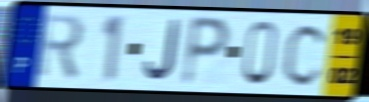0: (242, 19, 280, 88)
1: (100, 13, 125, 85)
C: (281, 21, 330, 89)
J: (143, 18, 182, 83)
P: (179, 13, 234, 89)
R: (34, 12, 87, 84)
